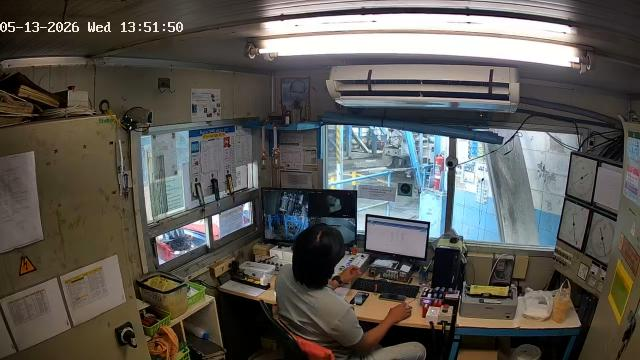Head: (293, 224, 345, 288)
People: (275, 224, 425, 359)
Phone: (350, 292, 369, 305), (379, 293, 406, 301)
